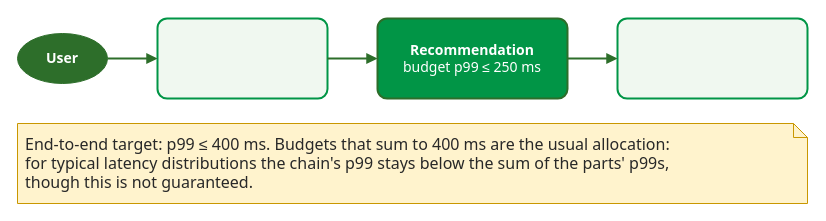
Some shapes in this 826 by 221 pixel diagram are drawn without their labels. The shapes that lost their labels are listed below. From the top down, each one's centre as x and y in pixels, then its label:
At pixel 242 58: "API gateway budget p99 ≤ 50 ms".
At pixel 712 58: "Database service budget p99 ≤ 100 ms".
